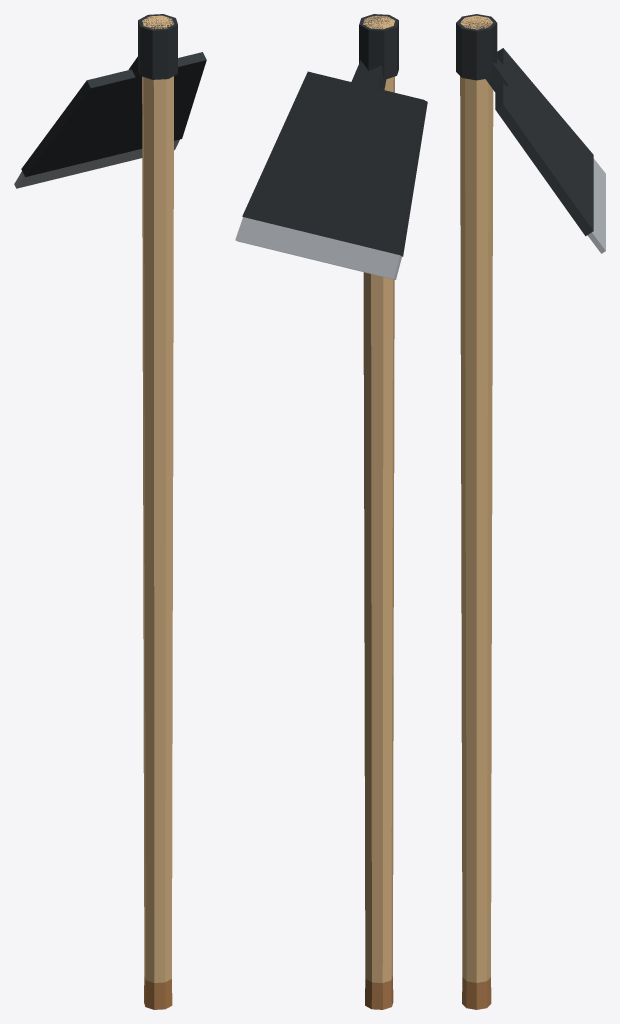
File: Hoe_LowPoly.fbx
3 views of the same model, side by side, from view 1: azimuth 30°, elevation 25°; view 2: azimuth 150°, elevation 25°; view 3: azimuth 270°, elevation 25° (orthographic).
Parts seen in each view (by area): view 1: Hoe_LowPoly; view 2: Hoe_LowPoly; view 3: Hoe_LowPoly.
Boxes of the visible parts, left/top/right/bottom form: Hoe_LowPoly: left=14, top=14, right=206, bottom=1009; Hoe_LowPoly: left=235, top=14, right=427, bottom=1009; Hoe_LowPoly: left=456, top=14, right=605, bottom=1009.
Bounding box in the file's own units: 0.186 × 1.1 × 0.1523.
